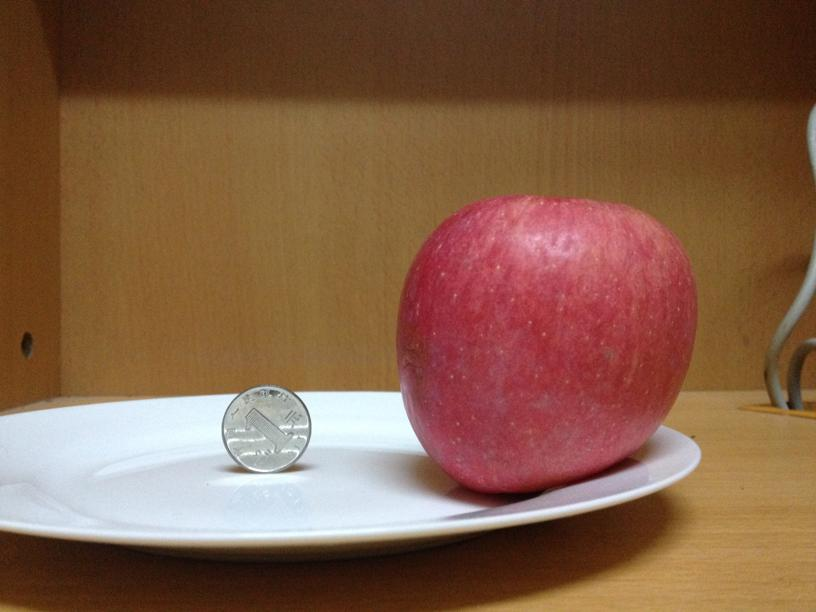apple: (396, 192, 698, 493)
coin: (217, 383, 313, 475)
